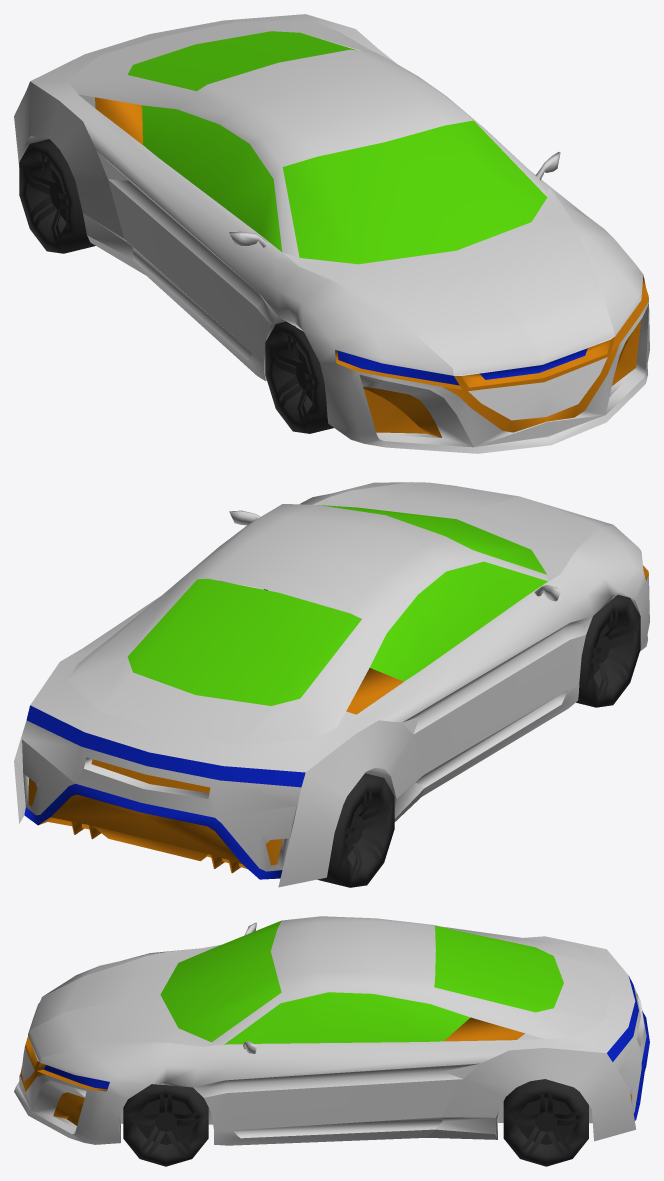
Rendered from Car Medium.fbx.
The picture shows the model from 3 angles, top to bottom: view 1: azimuth 30°, elevation 25°; view 2: azimuth 150°, elevation 25°; view 3: azimuth 270°, elevation 25°; orthographic projection. The views are drawn at different scales.
Visible parts, largest first — view 1: body5_L1, wheel_BR_L1, wheel_BL_L1; view 2: body5_L1, wheel_BR_L1, wheel_BL_L1; view 3: body5_L1, wheel_BL_L1_001, wheel_FL_L1.
Boxes of the visible parts, bbox=[...] form: body5_L1: bbox=[14, 14, 649, 453]; wheel_BR_L1: bbox=[19, 139, 95, 253]; wheel_BL_L1: bbox=[265, 321, 333, 433]; body5_L1: bbox=[14, 482, 649, 887]; wheel_BR_L1: bbox=[317, 773, 394, 887]; wheel_BL_L1: bbox=[576, 594, 640, 707]; body5_L1: bbox=[14, 916, 649, 1145]; wheel_BL_L1_001: bbox=[503, 1079, 588, 1166]; wheel_FL_L1: bbox=[123, 1084, 208, 1166].
Size of the model in its own units: 2.15 by 1.3 by 4.62.
